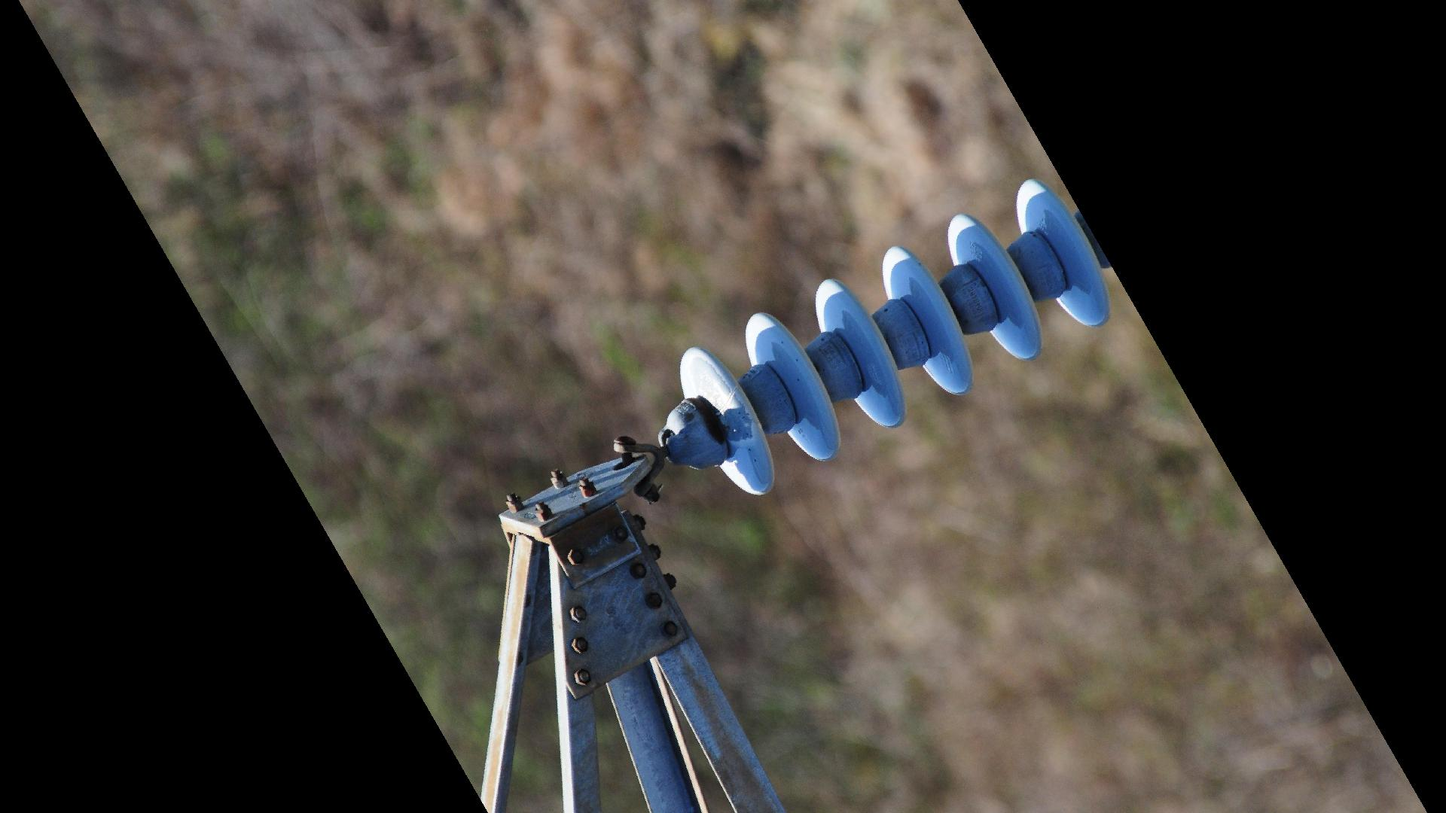insulator: (675, 174, 1117, 501)
insulator_flashover: (717, 402, 755, 447)
